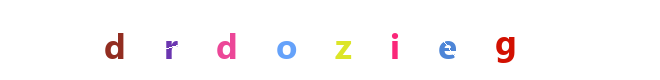D: (75, 0, 155, 80), (237, 0, 317, 80)
E: (321, 0, 401, 80)
G: (466, 0, 546, 80)
I: (303, 0, 383, 80)
O: (257, 0, 337, 80)
R: (130, 0, 210, 80)
Z: (290, 0, 370, 80)
